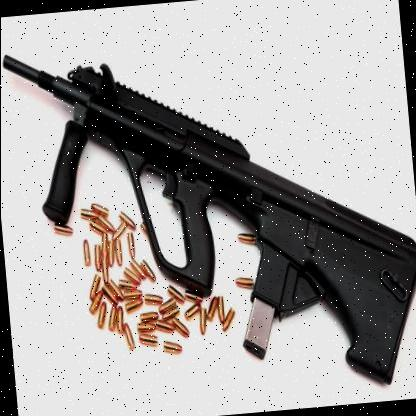rifle: (0, 10, 416, 408)
